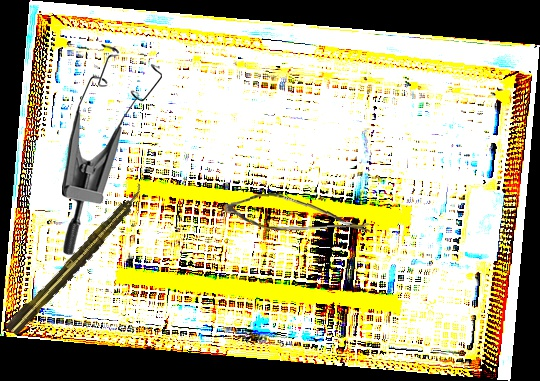Handpiece: (3, 182, 151, 338)
Micro Scissor: (223, 188, 373, 240)
Speculum: (62, 44, 162, 255)
